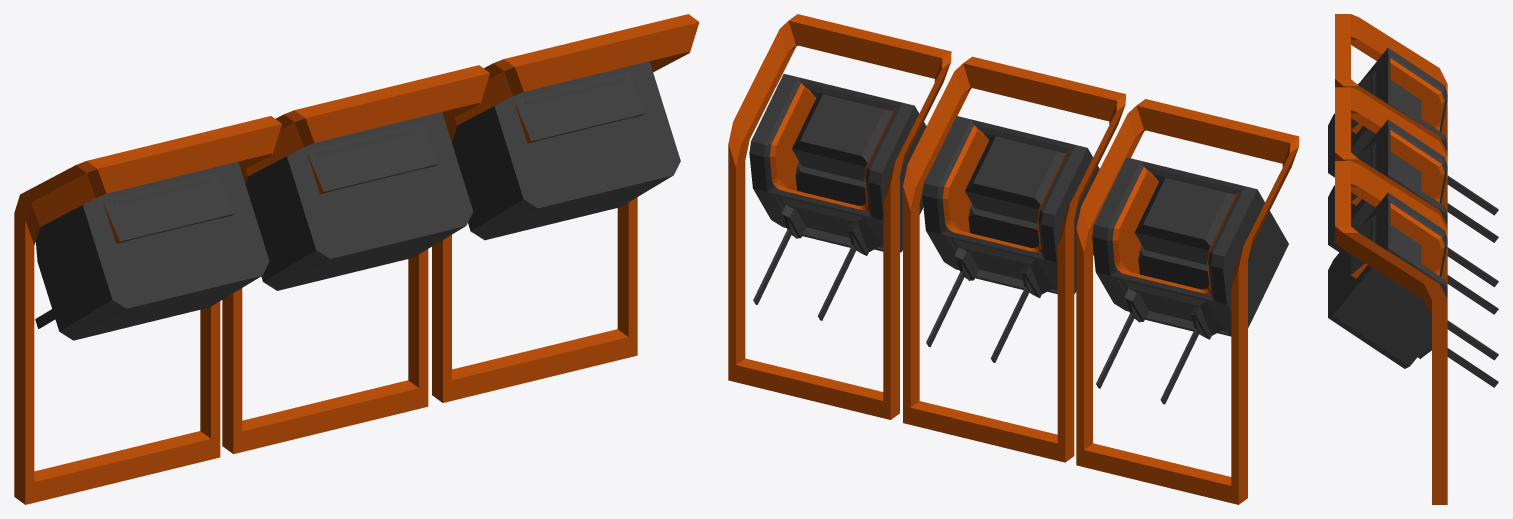
The model's file is 0002_factory_condenser.glb.
3 views of the same model, side by side, from view 1: azimuth 30°, elevation 25°; view 2: azimuth 150°, elevation 25°; view 3: azimuth 270°, elevation 25° (orthographic). The views are drawn at different scales.
Parts seen in each view (by area): view 1: 立方体.044; view 2: 立方体.044; view 3: 立方体.044.
Part boxes in pixels (box(x1,y1,x2,y2)): 立方体.044: box(14, 14, 699, 504); 立方体.044: box(728, 14, 1299, 504); 立方体.044: box(1328, 14, 1498, 504).
Size of the model in its own units: 32.88 by 19.7 by 11.
